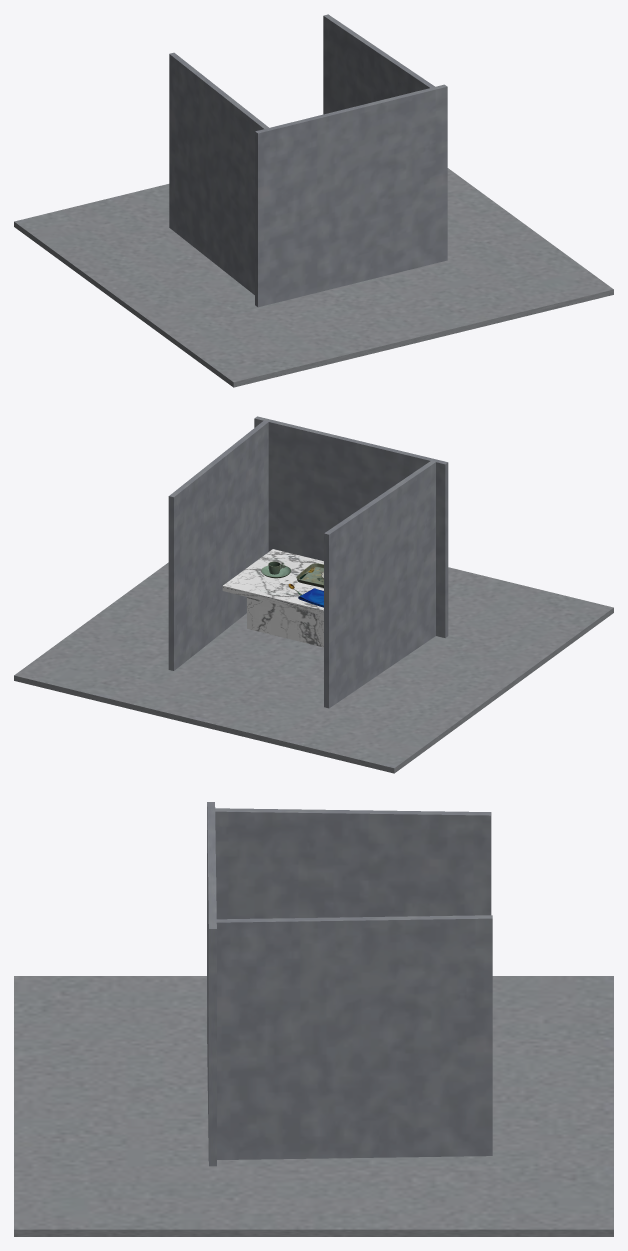
Rendered from ours.glb.
3 views of the same model, one above another, from view 1: azimuth 30°, elevation 25°; view 2: azimuth 150°, elevation 25°; view 3: azimuth 270°, elevation 25° (orthographic). The views are drawn at different scales.
Visible parts, largest first — view 1: floor_0, wall_0, wall_2, wall_1; view 2: floor_0, wall_2, wall_1, wall_0, table_0; view 3: floor_0, wall_1, wall_2, wall_0.
Part boxes in pixels (bbox=[...]): floor_0: bbox=[14, 168, 613, 387]; wall_0: bbox=[255, 84, 447, 307]; wall_2: bbox=[169, 52, 268, 294]; wall_1: bbox=[323, 14, 434, 114]; floor_0: bbox=[14, 562, 613, 773]; wall_2: bbox=[324, 461, 436, 708]; wall_1: bbox=[168, 420, 268, 670]; wall_0: bbox=[254, 416, 448, 637]; table_0: bbox=[222, 549, 323, 647]; floor_0: bbox=[14, 976, 613, 1236]; wall_1: bbox=[215, 915, 492, 1159]; wall_2: bbox=[211, 808, 491, 919]; wall_0: bbox=[207, 802, 216, 1166].
Size of the model in its own units: 3 by 1.35 by 3.
12 materials, 12 textured.
